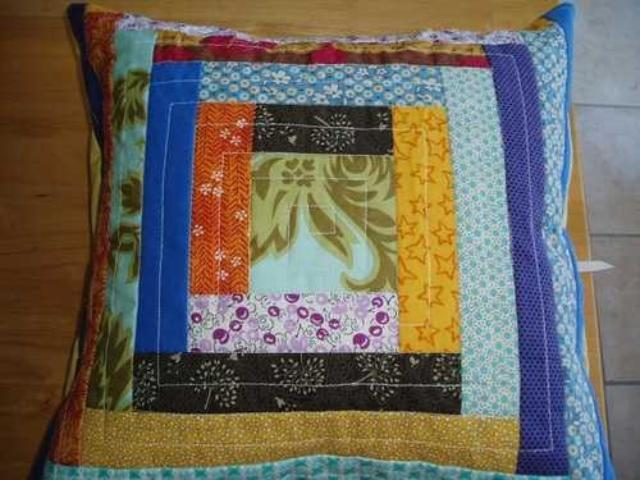pillow: (32, 0, 614, 478)
